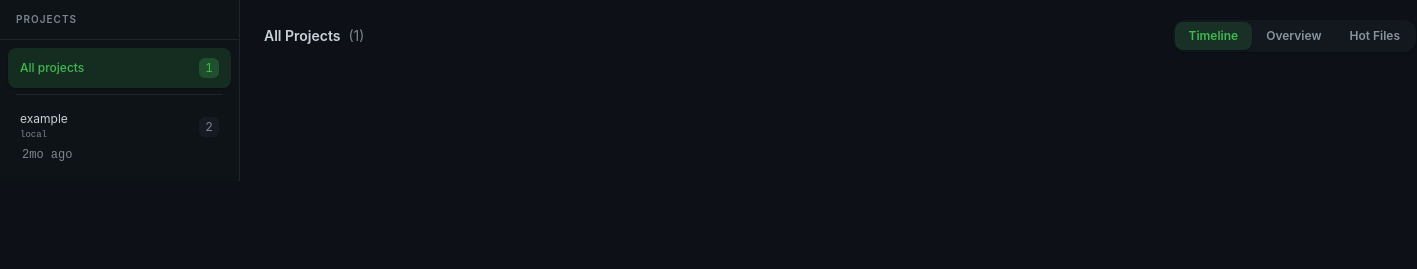
ProjectsPanel project insights › opens the Timeline view by default and when selecting a project
Click the button "Overview". click: (1294,36)
box: [1252, 22, 1336, 50]
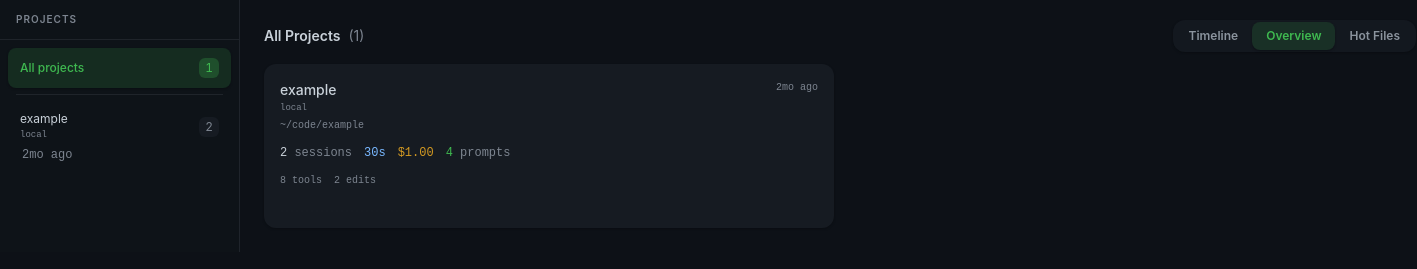
Expected: the button "Overview" has class "bg-terminal-green-subtle", [1252, 22, 1336, 50]
Click the button "example local 2 2mo ago". click: (120,137)
box: [8, 101, 231, 172]
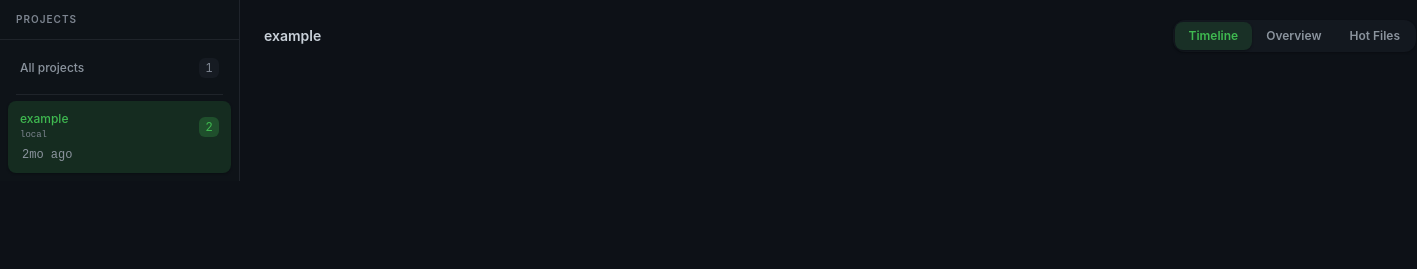
Expected: the heading "example" is shown, [264, 26, 321, 46]
